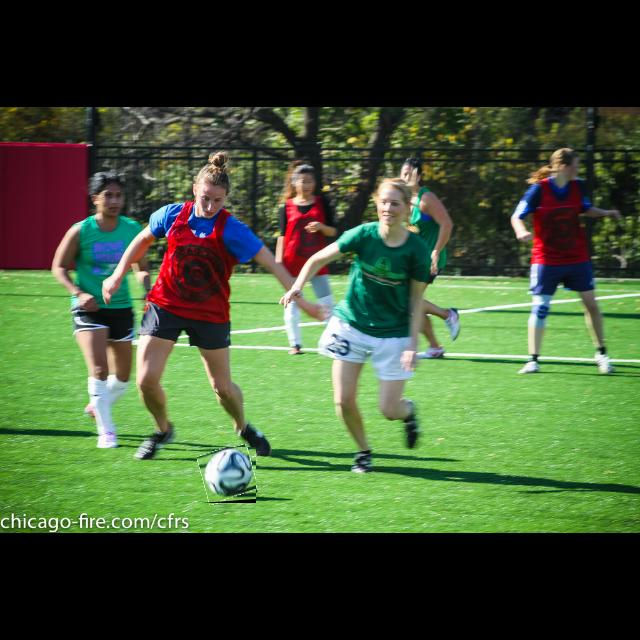Football: (200, 447, 256, 503)
